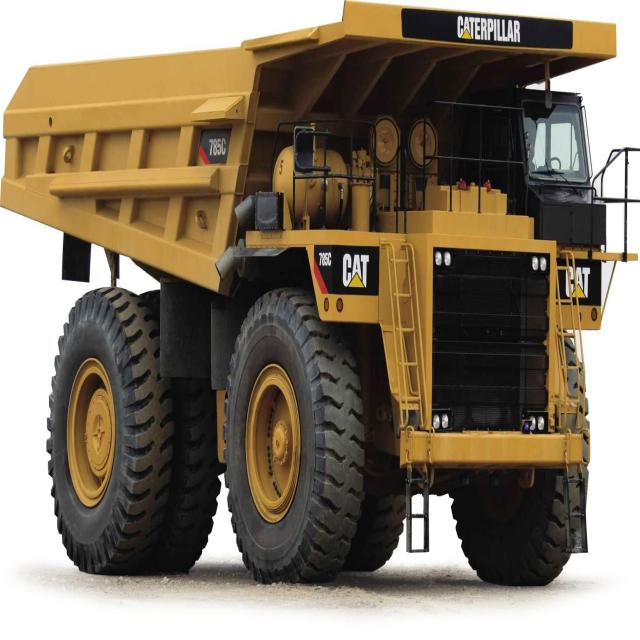dump_truck: (9, 3, 631, 578)
